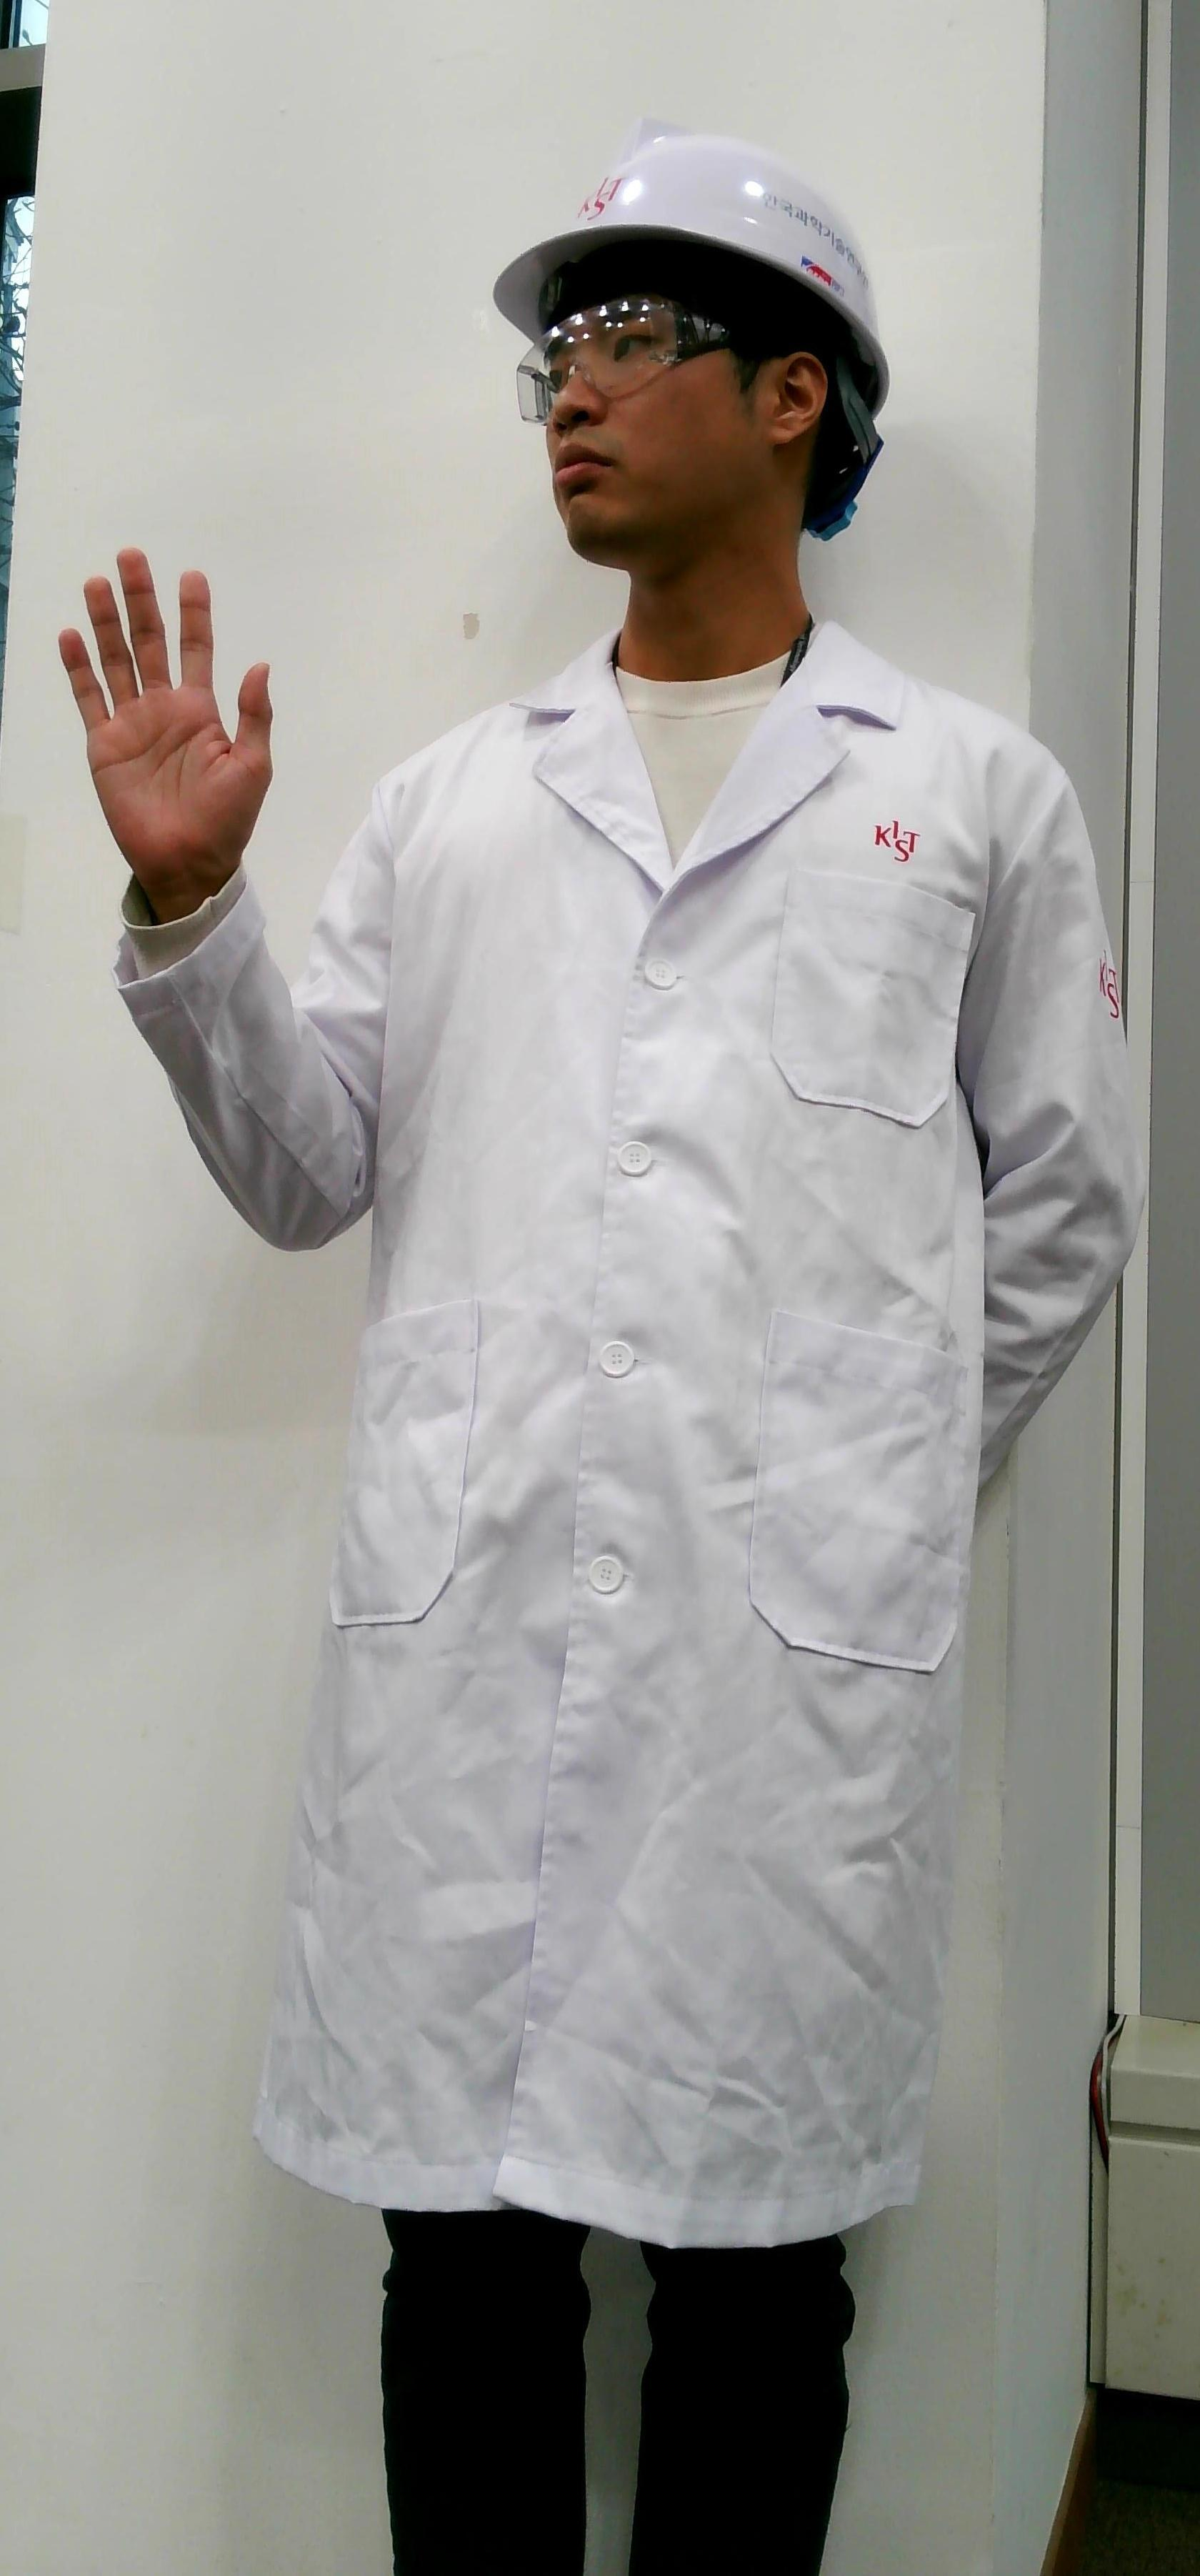lab_coat: (345, 759, 992, 2213)
